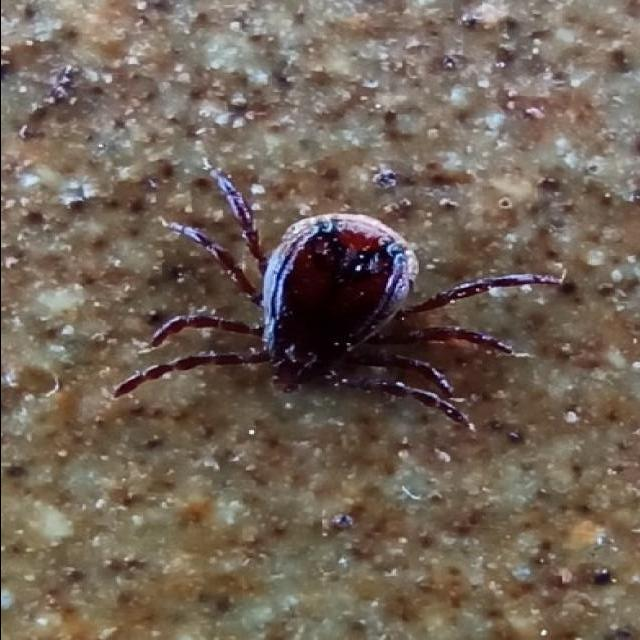Rhipicephalus Sanguineus-M: (106, 161, 568, 430)
